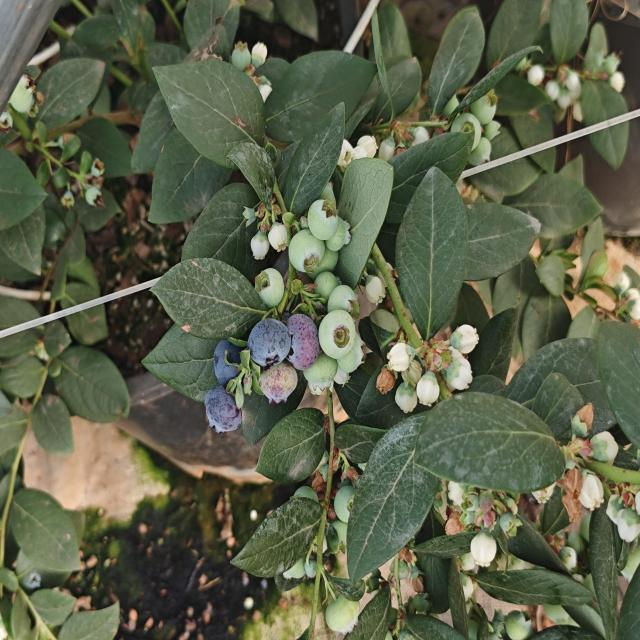ripe: (244, 316, 293, 369), (284, 309, 325, 370), (200, 384, 245, 438), (207, 330, 250, 386)
